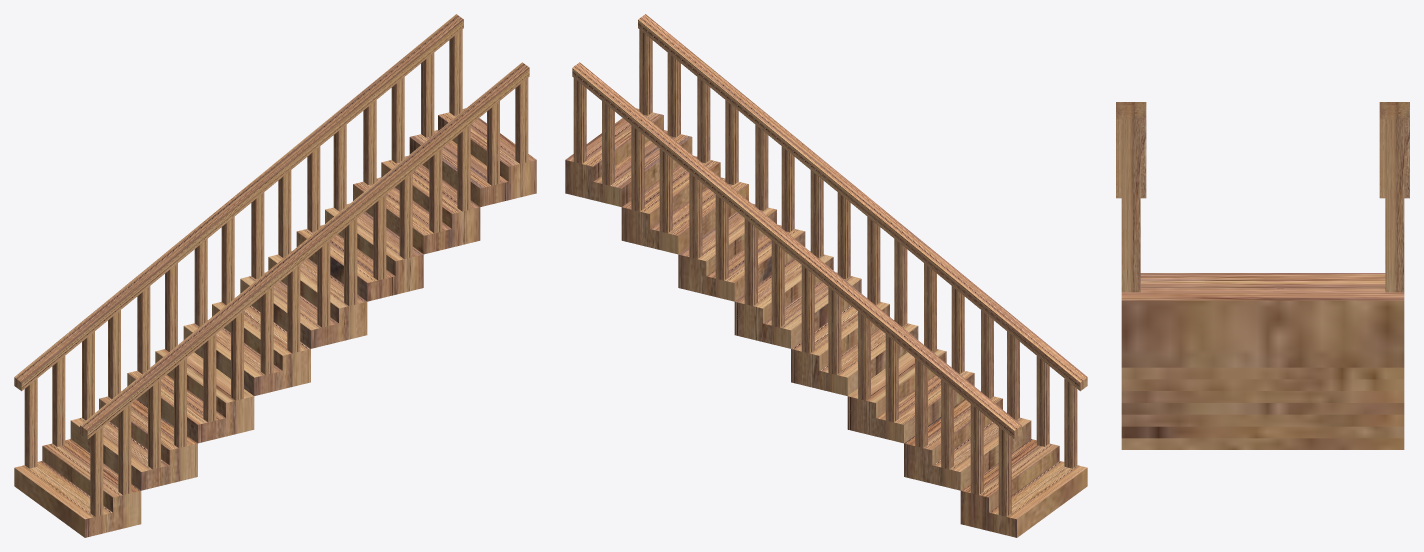
File: Stairs.fbx
3 renders of one model, left to right at view 1: azimuth 30°, elevation 25°; view 2: azimuth 150°, elevation 25°; view 3: azimuth 270°, elevation 25°, orthographic. The views are drawn at different scales.
Visible parts, largest first — view 1: Cube.020, Cube.026, Cube.013, Cube.012, Cube.007, Cube.006, Cube.009, Cube.010, Cube.008, Cube.011, Cube.043, Cube.024 (+30 smaller); view 2: Cube.020, Cube.026, Cube.013, Cube.012, Cube.007, Cube.006, Cube.009, Cube.010, Cube.008, Cube.011, Cube.024, Cube.043 (+30 smaller); view 3: Cube.006, Cube.011, Cube.007, Cube.012, Cube.029, Cube.001, Cube.009, Cube.008, Cube.010, Cube.013, Cube.020, Cube.026.
Part boxes in pixels (box(x1,y1,x2,y2)): Cube.020: box(14, 14, 463, 391); Cube.026: box(80, 62, 529, 439); Cube.013: box(14, 439, 141, 537); Cube.012: box(70, 396, 197, 490); Cube.007: box(353, 156, 480, 254); Cube.006: box(409, 108, 536, 206); Cube.009: box(240, 251, 367, 348); Cube.010: box(183, 302, 310, 395); Cube.008: box(296, 203, 423, 301); Cube.011: box(127, 349, 254, 443); Cube.043: box(52, 356, 65, 446); Cube.024: box(118, 404, 131, 494); Cube.020: box(572, 62, 1021, 439); Cube.026: box(638, 14, 1087, 391); Cube.013: box(960, 439, 1087, 537); Cube.012: box(904, 396, 1031, 490); Cube.007: box(621, 156, 748, 254); Cube.006: box(565, 108, 692, 206); Cube.009: box(734, 251, 861, 348); Cube.010: box(791, 302, 918, 395); Cube.008: box(678, 203, 805, 301); Cube.011: box(847, 349, 974, 443); Cube.024: box(1036, 356, 1049, 446); Cube.043: box(970, 404, 983, 494); Cube.006: box(1121, 273, 1404, 367); Cube.011: box(1121, 414, 1404, 426); Cube.007: box(1121, 367, 1404, 379); Cube.012: box(1121, 426, 1404, 438); Cube.029: box(1385, 119, 1404, 292); Cube.001: box(1121, 119, 1140, 292); Cube.009: box(1121, 391, 1404, 402); Cube.008: box(1121, 379, 1404, 390); Cube.010: box(1121, 403, 1404, 414); Cube.013: box(1121, 438, 1404, 449); Cube.020: box(1379, 102, 1409, 198); Cube.026: box(1116, 102, 1146, 198).
Size of the model in its own units: 1093 by 839 by 307.
1 material, 1 textured.
